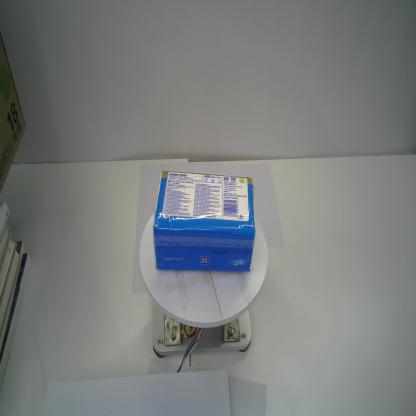Tissue: (152, 168, 257, 274)
